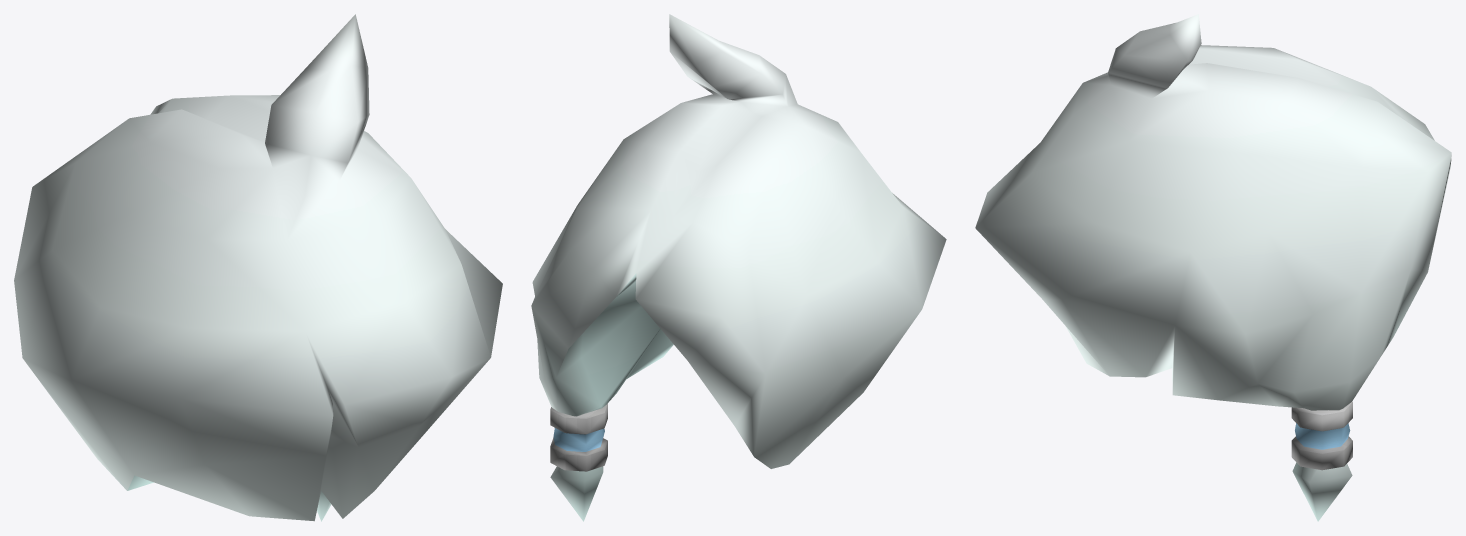
Rendered from CharSkyKid_Hair_BraidSideSmall.glb.
3 renders of one model, left to right at view 1: azimuth 30°, elevation 25°; view 2: azimuth 150°, elevation 25°; view 3: azimuth 270°, elevation 25°, orthographic. The views are drawn at different scales.
Visible parts, largest first — view 1: AlphaTestOpaque; view 2: AlphaTestOpaque; view 3: AlphaTestOpaque.
Boxes of the visible parts, <box> form: AlphaTestOpaque: <box>14,14,502,521</box>; AlphaTestOpaque: <box>531,14,946,521</box>; AlphaTestOpaque: <box>975,14,1451,521</box>.
Bounding box in the file's own units: 3.48 × 4.41 × 3.86.
1 material, 1 textured.
